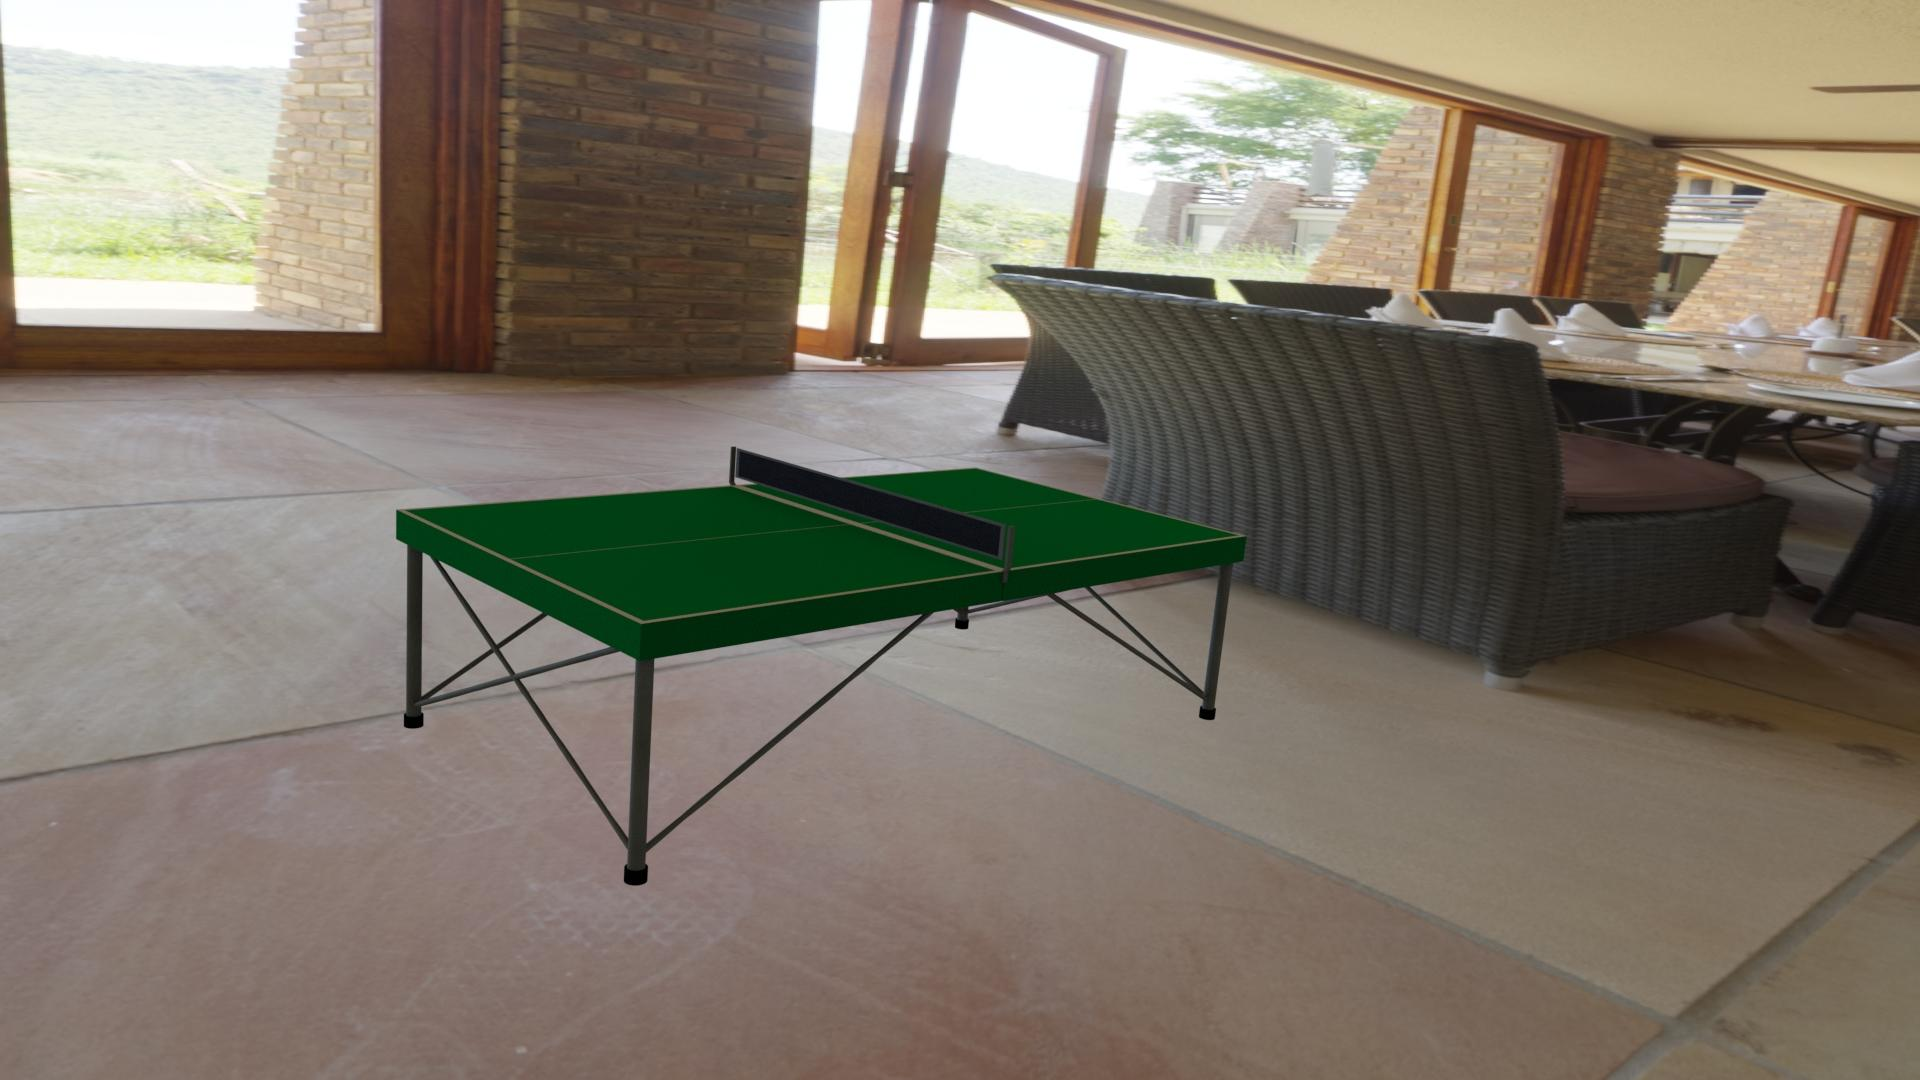table: (405, 468, 1240, 621)
